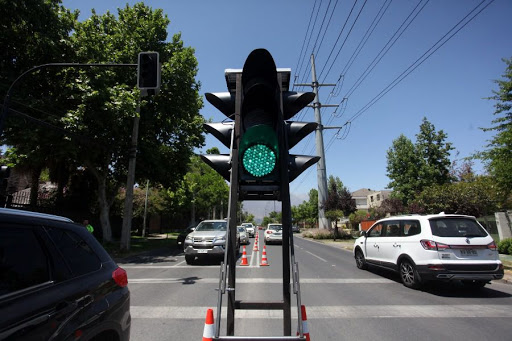Arbol: (1, 1, 188, 181)
Poste: (222, 198, 297, 341)
Semaforo: (201, 53, 319, 195), (137, 50, 161, 89)
Vehiculo: (1, 208, 133, 341), (352, 211, 505, 293)
